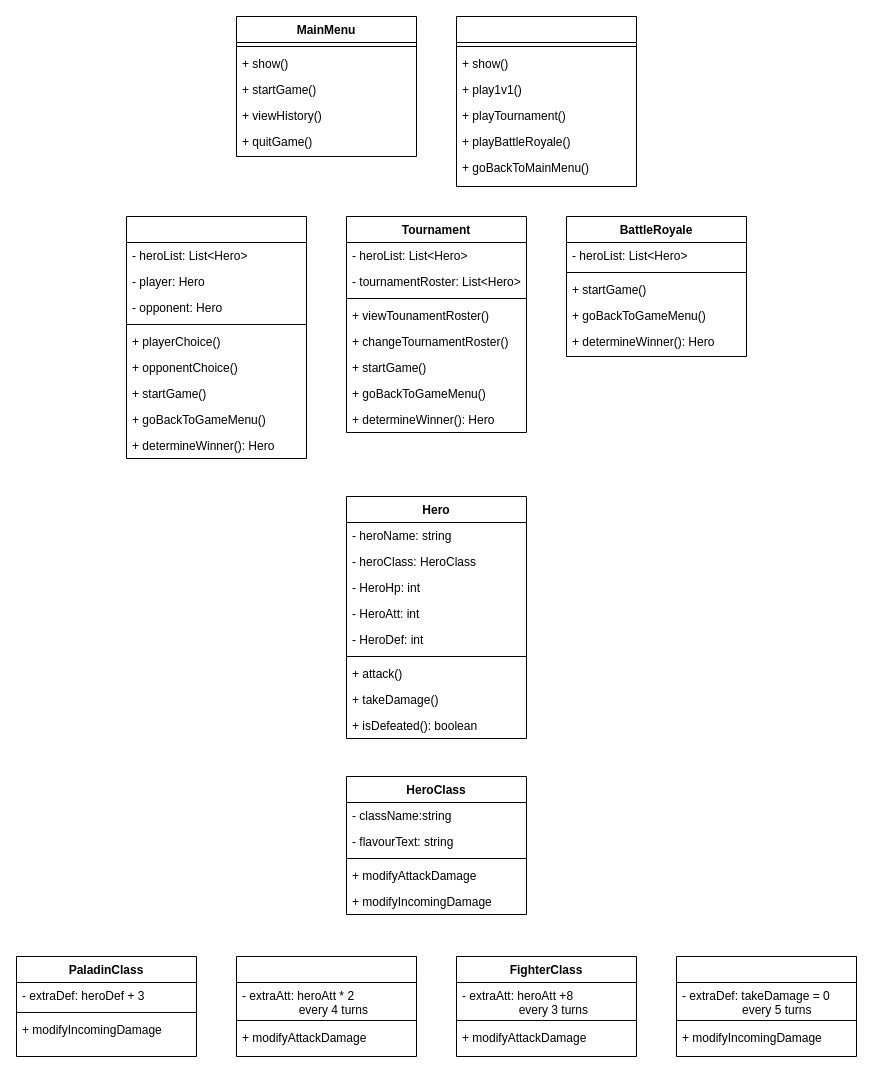
This 873x1073 diagram has some shape labels left out. Here are the shapes that lost their labels. From the top down, the box of each, then its label:
(456, 16, 636, 186): GameMenu
(126, 216, 306, 458): 1vs1
(236, 956, 416, 1056): RougeClass
(676, 956, 856, 1056): MageClass
